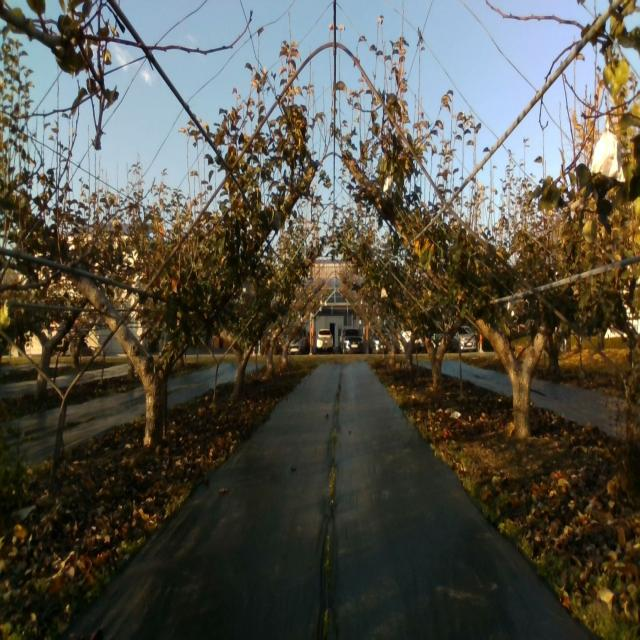pearbags: (590, 121, 626, 183), (382, 175, 393, 199)
